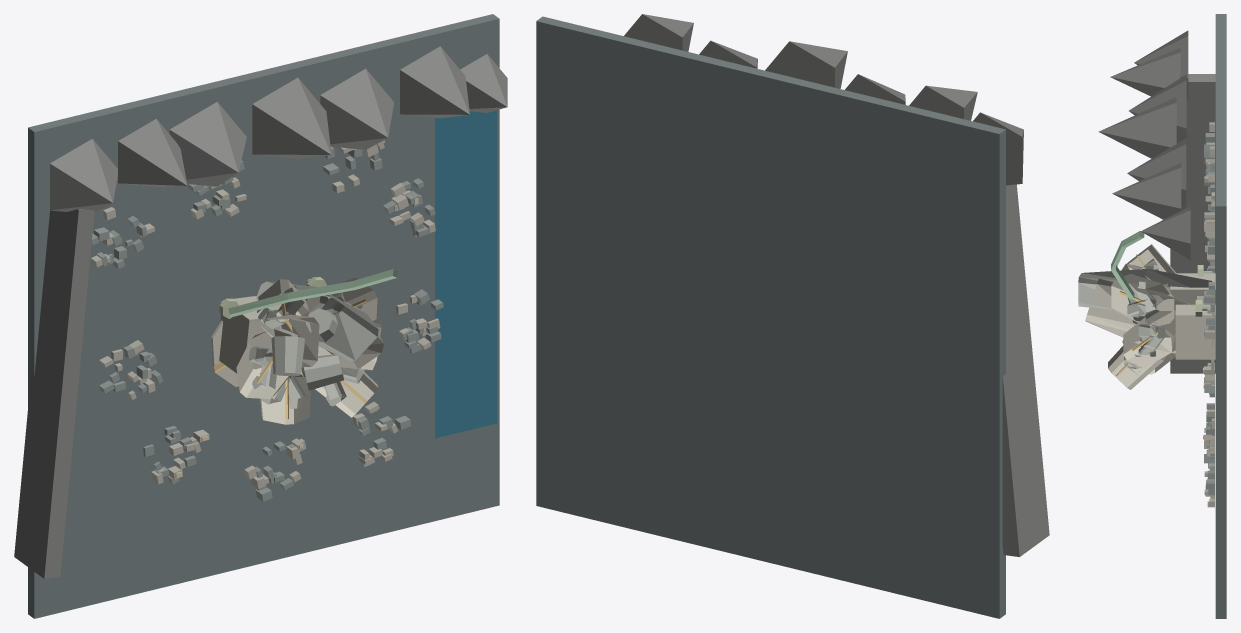
File: Habitat-Crown-dry.glb
3 renders of one model, left to right at view 1: azimuth 30°, elevation 25°; view 2: azimuth 150°, elevation 25°; view 3: azimuth 270°, elevation 25°, orthographic. The views are drawn at different scales.
Visible parts, largest first — view 1: 10km_study_terrain, east_artificial_inland_sea, west_cliff_face, north_mountain_peak_4, north_mountain_peak_3, north_mountain_peak_5, north_mountain_peak_6, north_mountain_peak_1, north_mountain_peak_2, crown_core_north, root_city_west_wing, north_mountain_peak_7 (+9 smaller); view 2: 10km_study_terrain, west_cliff_face, north_mountain_peak_4, north_mountain_peak_6, north_mountain_peak_2, north_mountain_peak_1, north_mountain_peak_3, north_mountain_peak_5; view 3: 10km_study_terrain, west_cliff_face, north_mountain_peak_4, north_mountain_peak_6, root_city_east_wing, north_mountain_peak_2, crown_core_east, crown_core_north, north_mountain_peak_7, H1_inhabited_artery, north_mountain_peak_5, north_mountain_peak_3 (+11 smaller).
Part boxes in pixels (x1,y1,x2,y2): 10km_study_terrain: (28, 14, 499, 618); east_artificial_inland_sea: (435, 110, 497, 438); west_cliff_face: (14, 209, 94, 578); north_mountain_peak_4: (252, 77, 331, 158); north_mountain_peak_3: (169, 101, 246, 186); north_mountain_peak_5: (320, 68, 393, 149); north_mountain_peak_6: (400, 46, 469, 118); north_mountain_peak_1: (50, 139, 117, 212); north_mountain_peak_2: (118, 119, 187, 186); crown_core_north: (255, 281, 378, 360); root_city_west_wing: (219, 296, 280, 373); north_mountain_peak_7: (460, 54, 507, 112); 10km_study_terrain: (536, 16, 1005, 618); west_cliff_face: (1002, 184, 1049, 556); north_mountain_peak_4: (765, 41, 847, 88); north_mountain_peak_6: (624, 14, 693, 51); north_mountain_peak_2: (909, 85, 977, 120); north_mountain_peak_1: (973, 112, 1023, 185); north_mountain_peak_3: (845, 74, 905, 104); north_mountain_peak_5: (699, 40, 757, 68); 10km_study_terrain: (1215, 14, 1226, 618); west_cliff_face: (1170, 74, 1215, 373); north_mountain_peak_4: (1098, 97, 1176, 158); north_mountain_peak_6: (1112, 163, 1181, 219); root_city_east_wing: (1175, 304, 1215, 359); north_mountain_peak_2: (1110, 47, 1180, 96); crown_core_east: (1085, 278, 1203, 359); crown_core_north: (1078, 269, 1212, 309); north_mountain_peak_7: (1141, 206, 1190, 259); H1_inhabited_artery: (1123, 311, 1175, 367); north_mountain_peak_5: (1127, 138, 1186, 209); north_mountain_peak_3: (1129, 74, 1186, 151).
Bounding box in the file's own units: 10.37 × 10.27 × 3.26.
